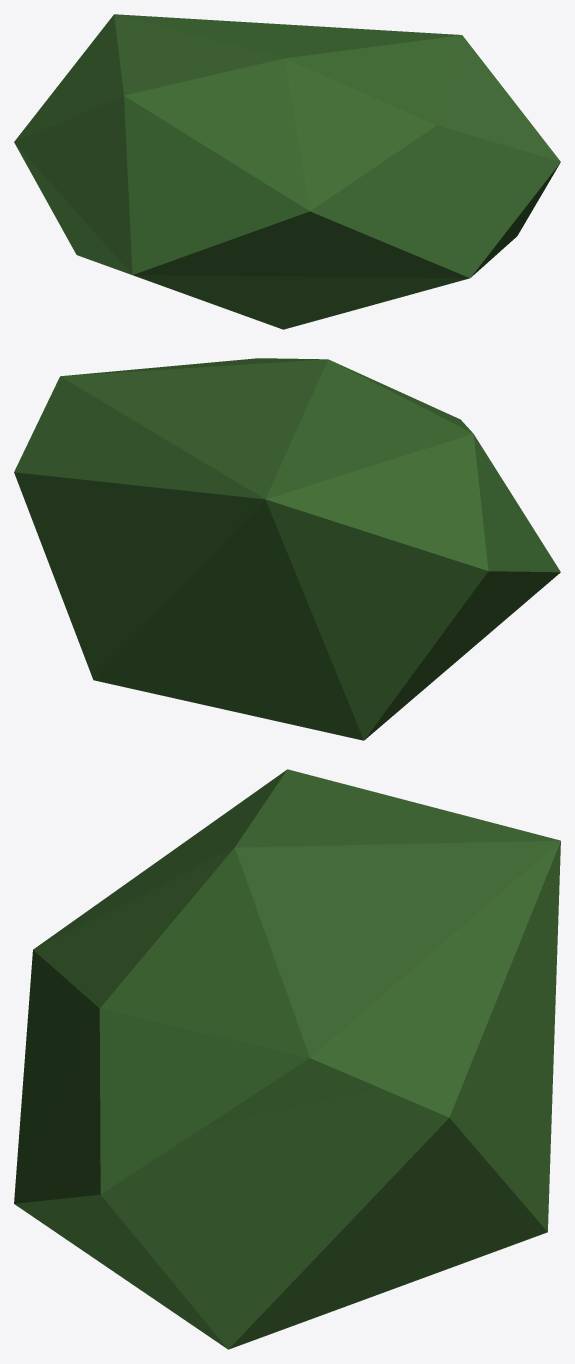
The model's file is Bush_1.fbx.
The picture shows the model from 3 angles, top to bottom: view 1: azimuth 30°, elevation 25°; view 2: azimuth 150°, elevation 25°; view 3: azimuth 270°, elevation 25°; orthographic projection. The views are drawn at different scales.
Visible parts, largest first — view 1: Bush_1; view 2: Bush_1; view 3: Bush_1.
Boxes of the visible parts, left/top/right/bottom form: Bush_1: left=14, top=14, right=560, bottom=329; Bush_1: left=14, top=358, right=560, bottom=740; Bush_1: left=14, top=769, right=560, bottom=1349.
Bounding box in the file's own units: 150 × 87.94 × 112.
